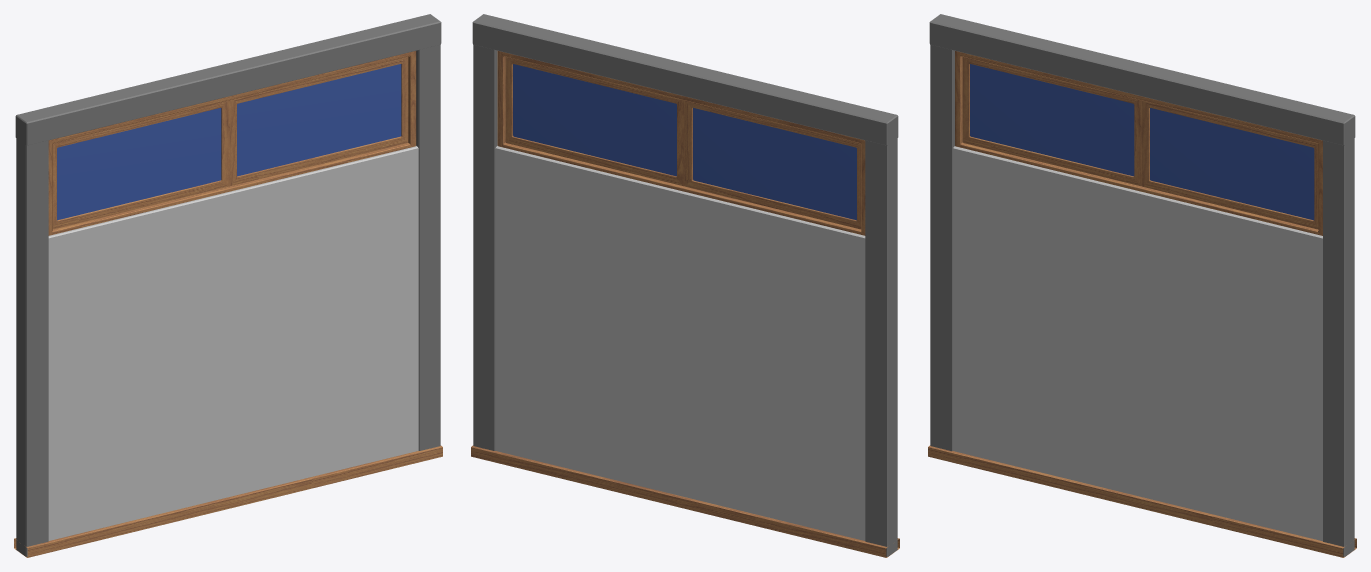
Rendered from SM_wall_windows_04.fbx.
3 views of the same model, side by side, from view 1: azimuth 30°, elevation 25°; view 2: azimuth 150°, elevation 25°; view 3: azimuth 330°, elevation 25° (orthographic).
Parts seen in each view (by area): view 1: Wall_windows_007; view 2: Wall_windows_007; view 3: Wall_windows_007.
Boxes of the visible parts, x1,y1,x2,y2 form: Wall_windows_007: [14, 14, 442, 557]; Wall_windows_007: [471, 14, 899, 557]; Wall_windows_007: [928, 14, 1356, 557].
Bounding box in the file's own units: 158 × 158 × 8.89.
